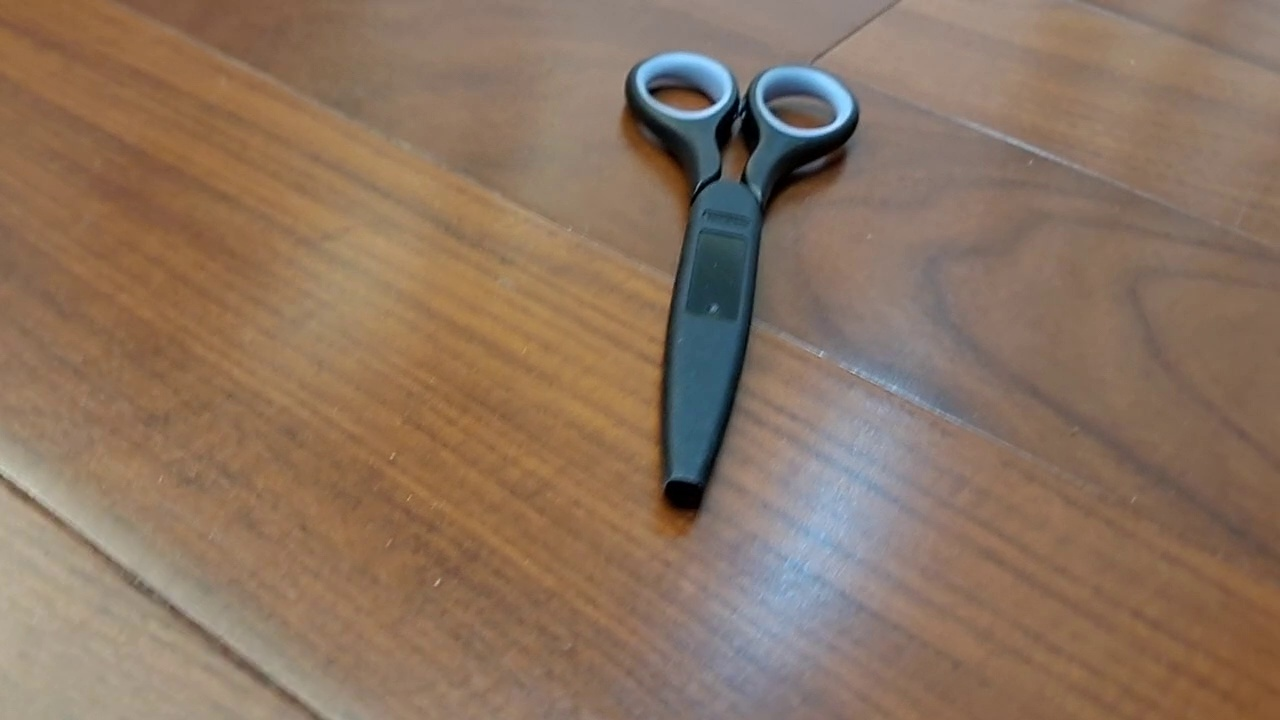scissors: (624, 50, 861, 513)
